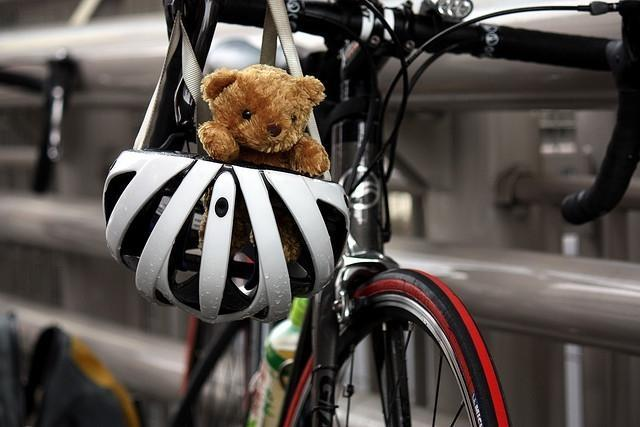bicycle: (176, 2, 640, 422)
